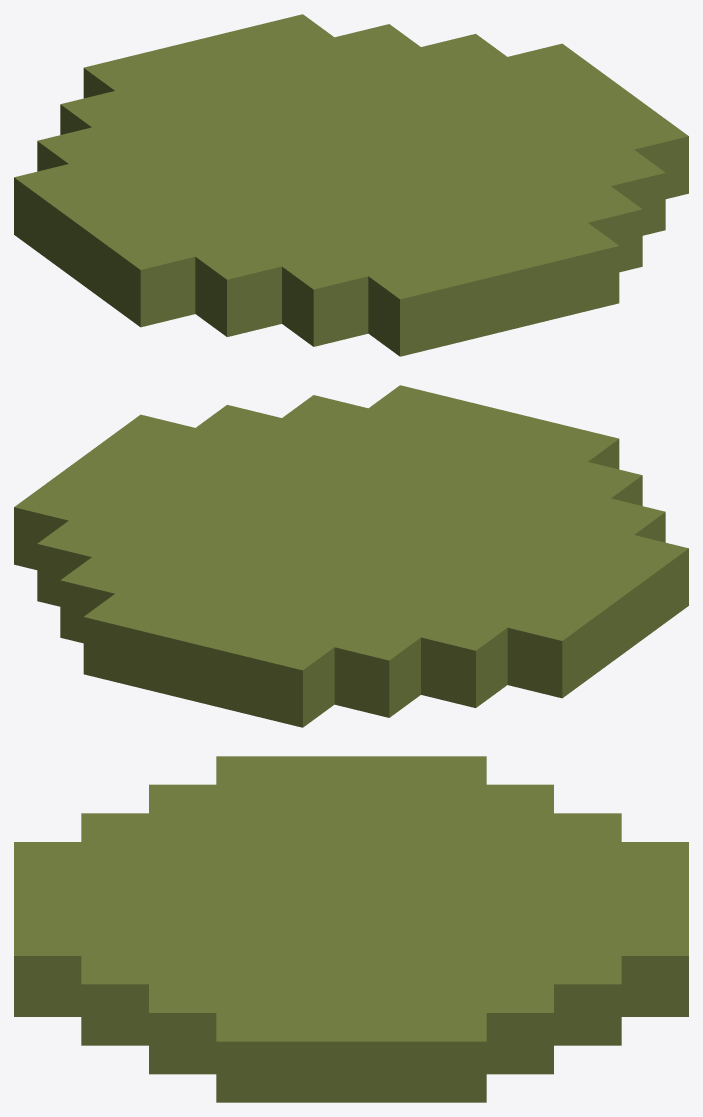
Rendered from lotusleaf1.vox.obj.
3 views of the same model, one above another, from view 1: azimuth 30°, elevation 25°; view 2: azimuth 150°, elevation 25°; view 3: azimuth 270°, elevation 25° (orthographic). The views are drawn at different scales.
Size of the model in its own units: 1 by 0.1 by 1.
Materials: 1 (1 with a texture image).
